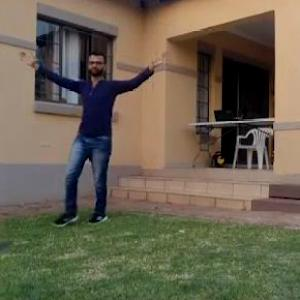takeoff: (26, 56, 175, 223)
